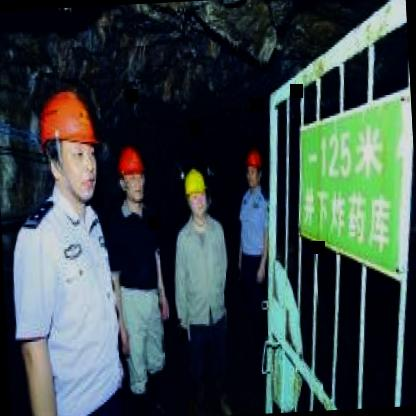helmet: (30, 81, 102, 206), (114, 138, 148, 206), (182, 164, 211, 223), (238, 142, 263, 188)
